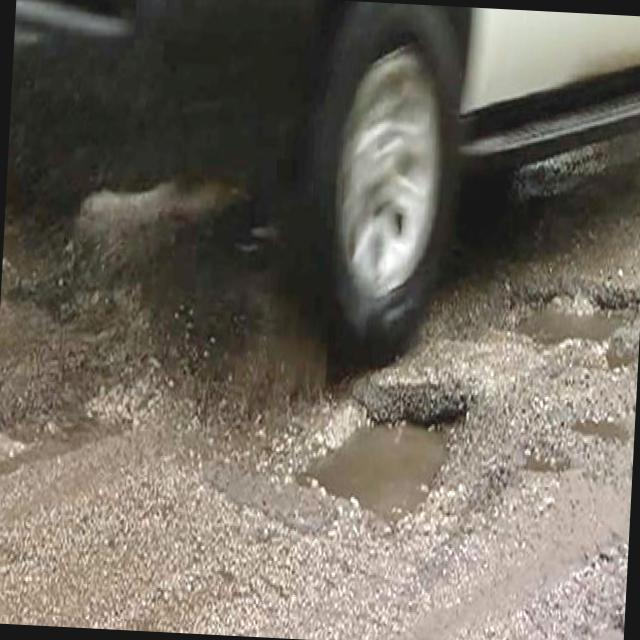bad-road: (286, 373, 474, 539), (469, 278, 640, 354)
